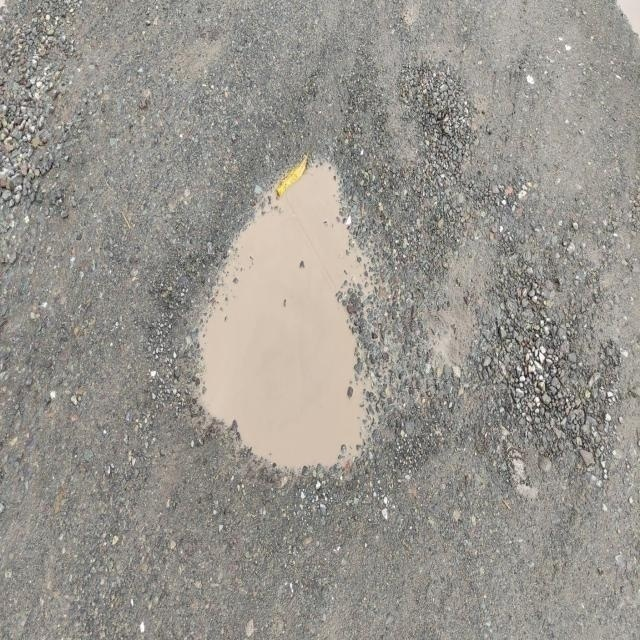pothole: (158, 107, 412, 487)
